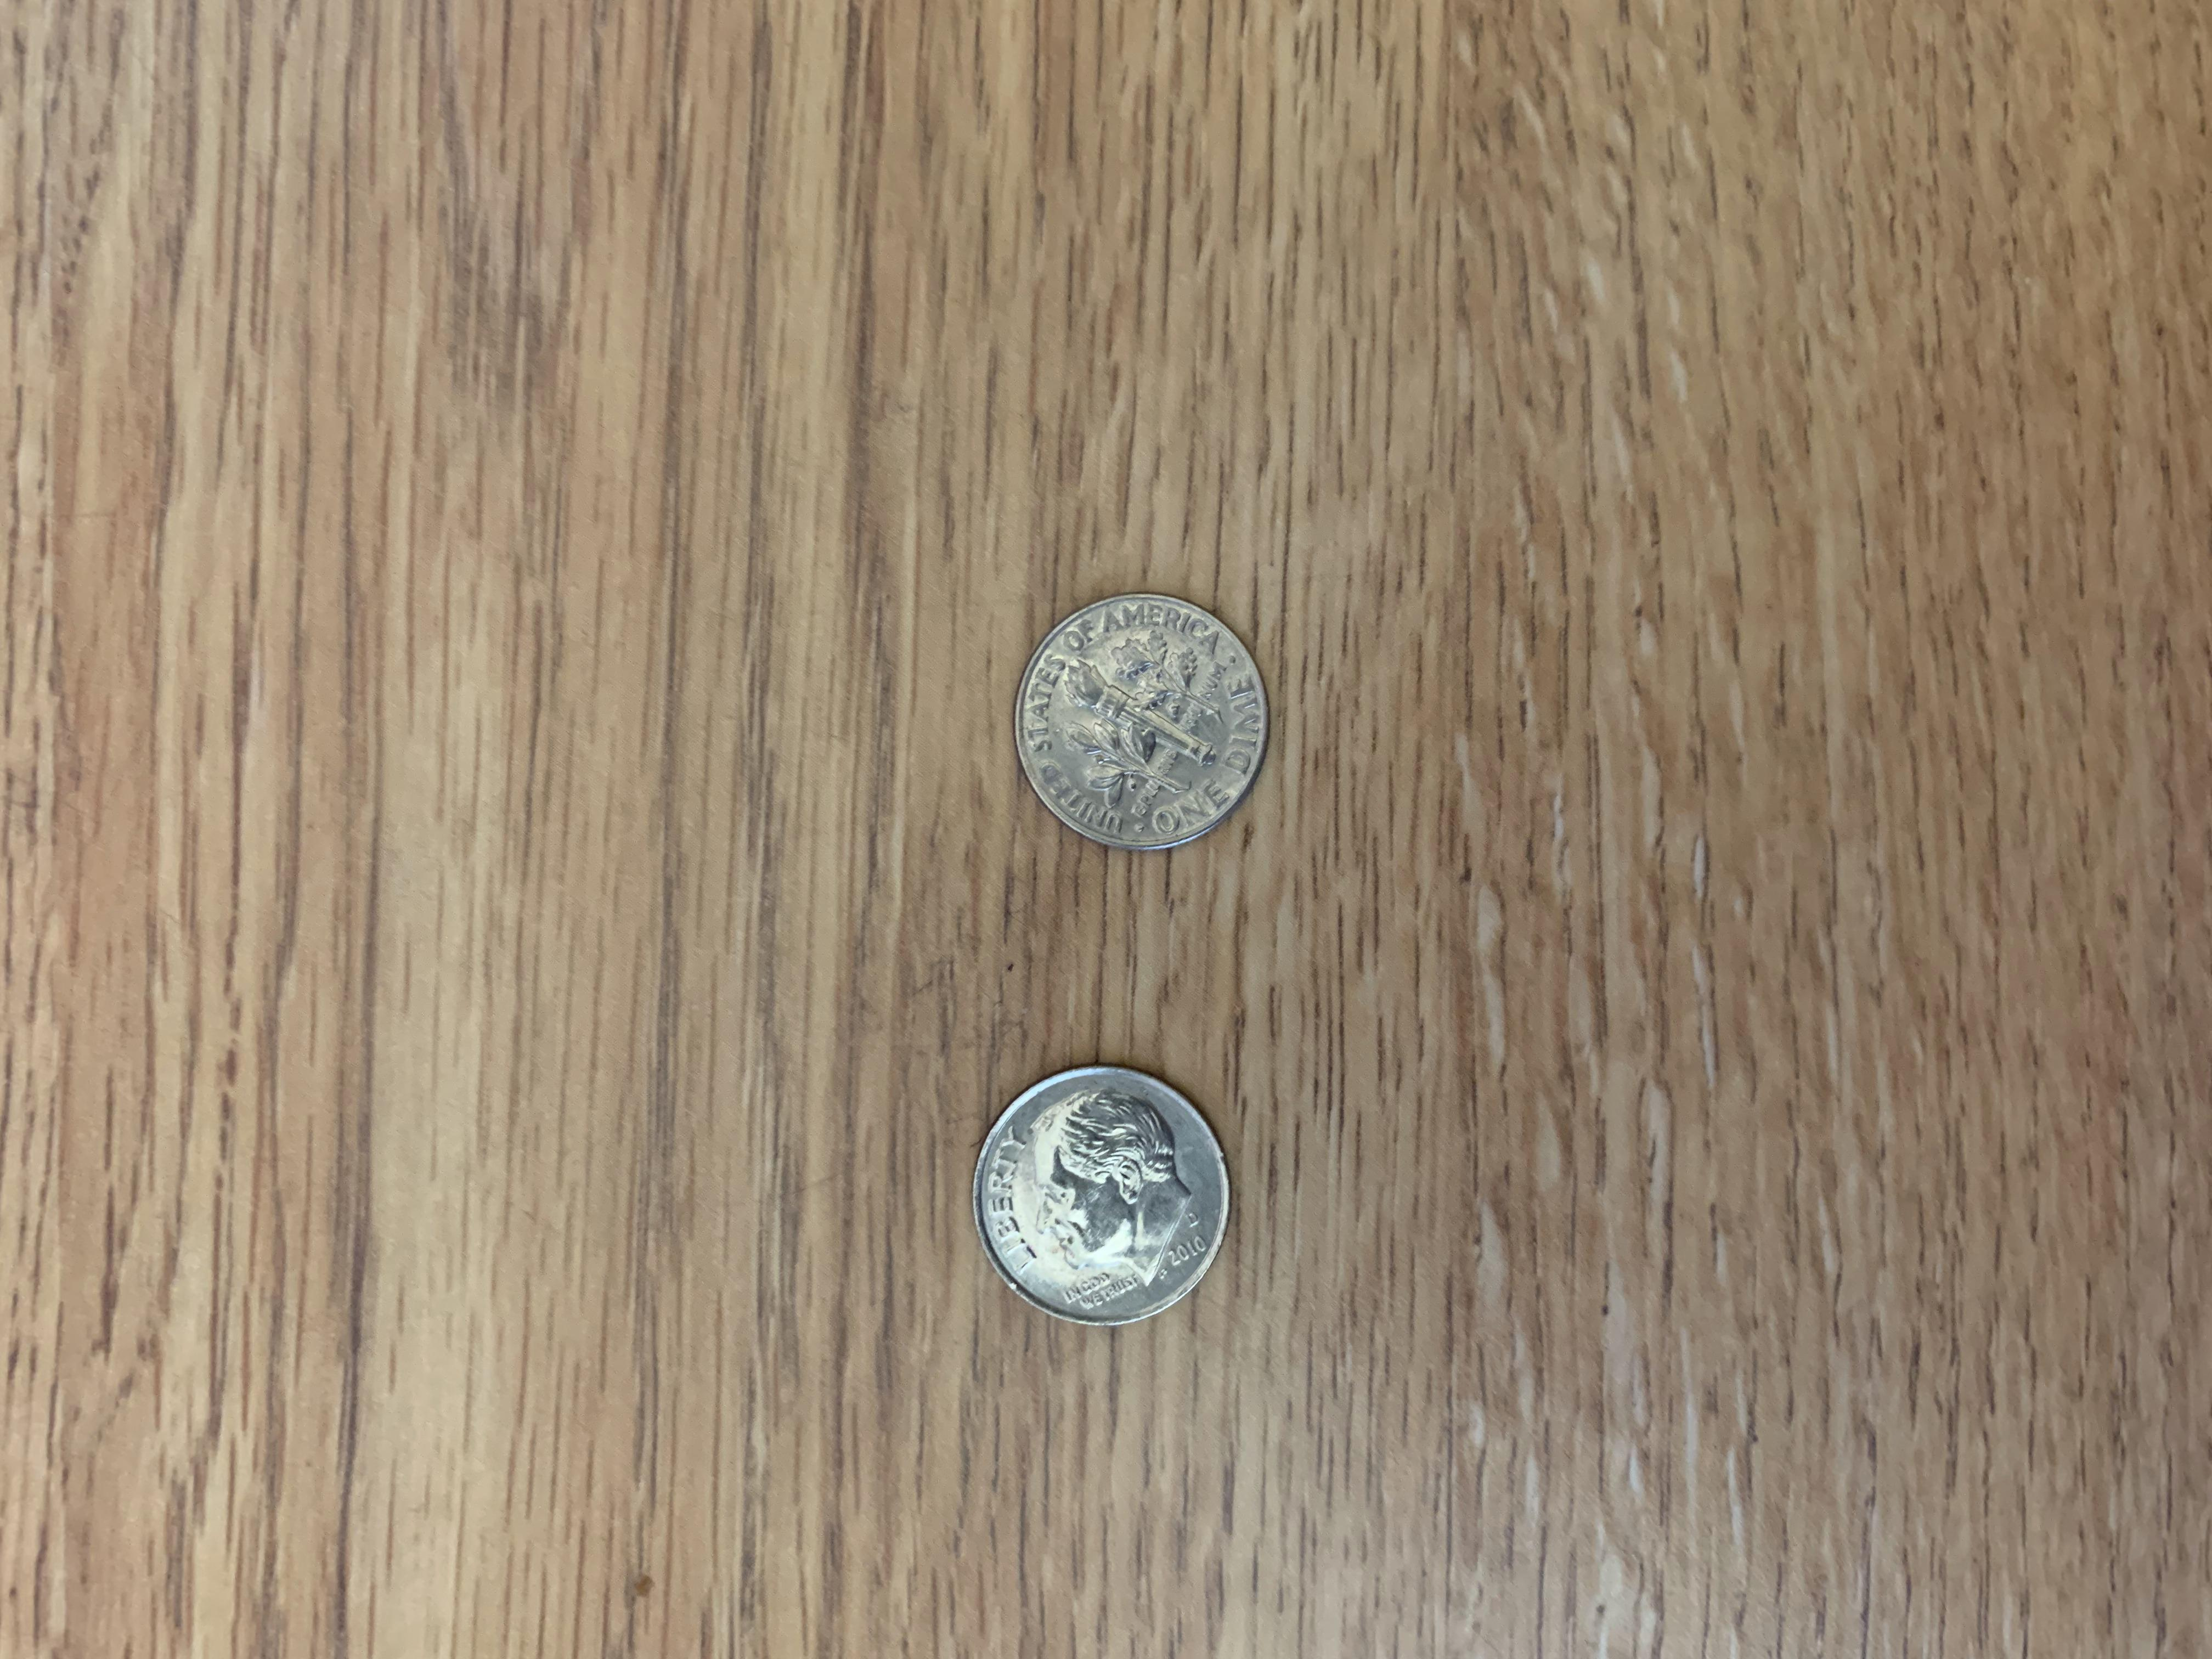Dime: (1001, 584, 1277, 864), (967, 1063, 1238, 1338)
